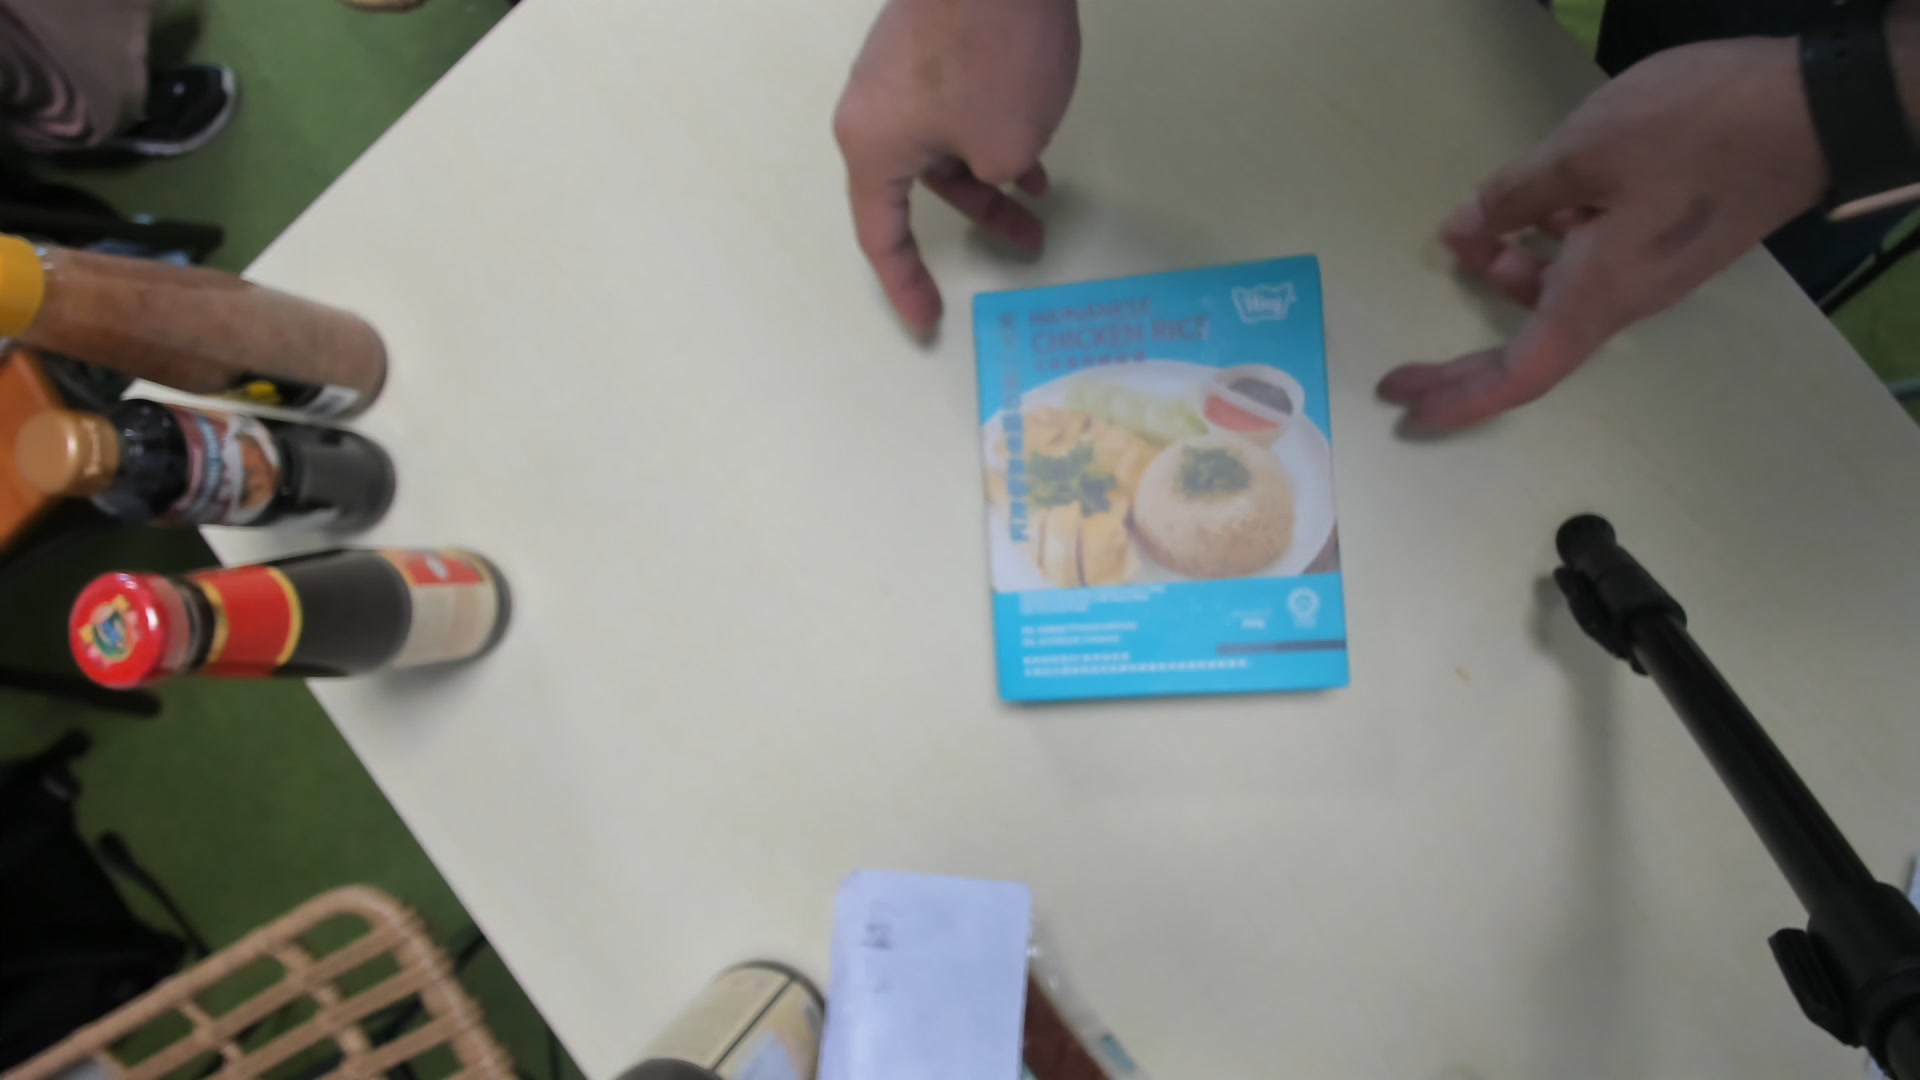OtherSauceDressingSoupbasePaste_200-299g_Halal_NonHealthy: (971, 258, 1353, 712)
